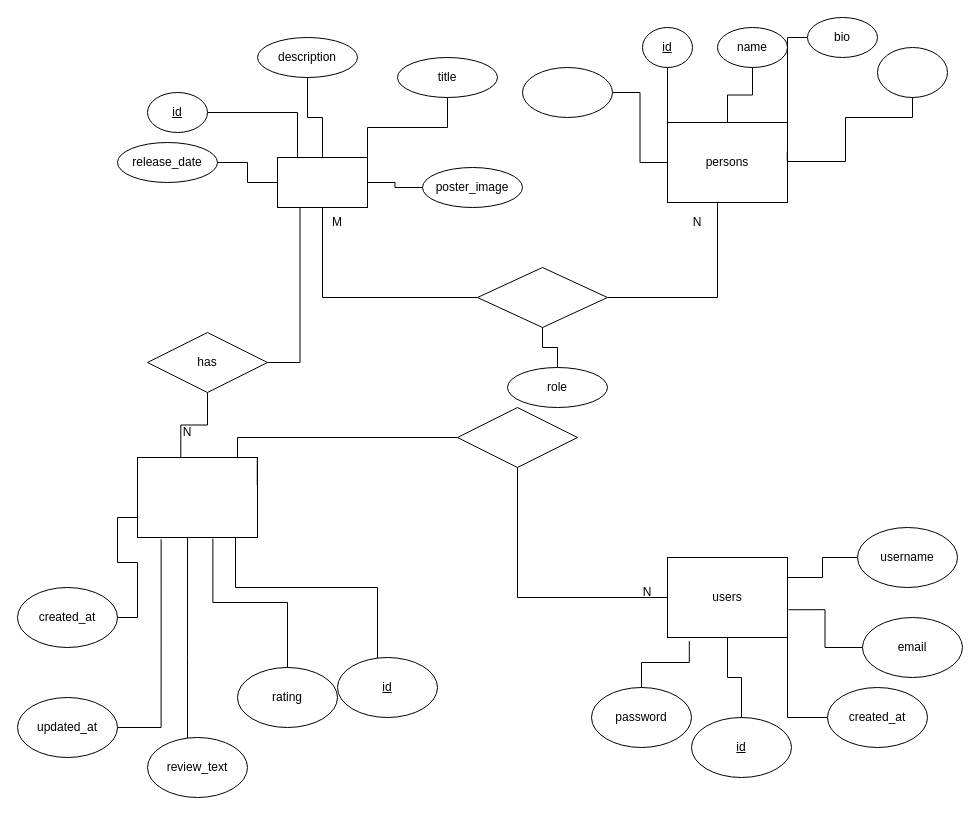
This 980x815 diagram has some shape labels left out. The shapes that lost their labels are listed below. From the top down, each one's centre as x and y in pixels, then its label:
the point at 567,92: profile_image
the point at 912,72: birth_date
the point at 322,182: movies
the point at 542,297: work on
the point at 517,437: authors
the point at 197,497: reviews
